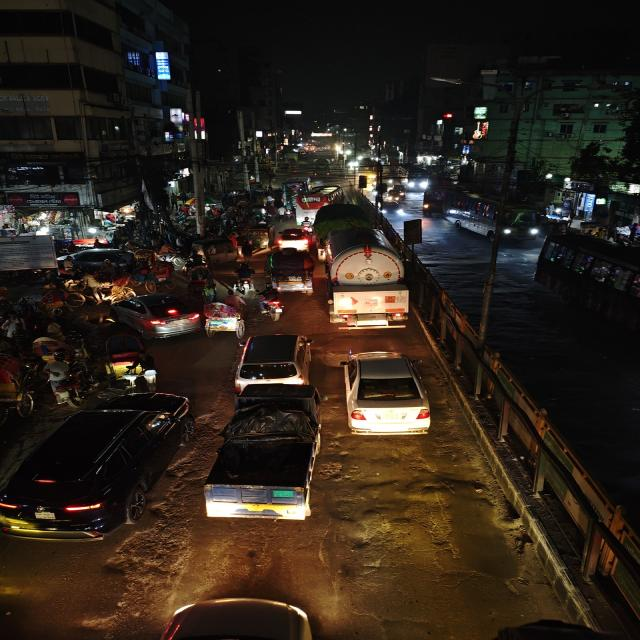bus: (536, 232, 640, 343), (434, 187, 542, 243), (404, 168, 428, 194)
car: (1, 390, 200, 542), (336, 348, 434, 439), (229, 330, 316, 388), (112, 292, 202, 339), (58, 248, 146, 278), (274, 226, 312, 250)
cng: (192, 236, 243, 264), (247, 224, 272, 246)
motorcycle: (255, 286, 287, 322), (230, 261, 258, 293)
pickup_van: (201, 384, 330, 526), (265, 248, 316, 294)
rickshaw: (100, 332, 153, 383), (0, 352, 36, 420), (43, 362, 91, 406), (37, 286, 87, 319), (202, 300, 243, 336), (141, 256, 177, 286), (31, 336, 65, 366), (188, 269, 219, 301)
truck: (316, 203, 414, 332)
